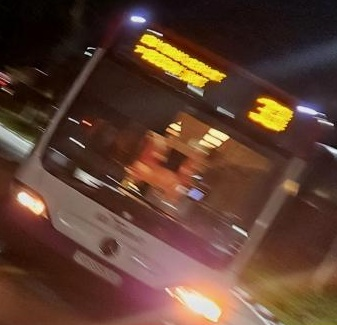bus: (242, 90, 299, 137)
